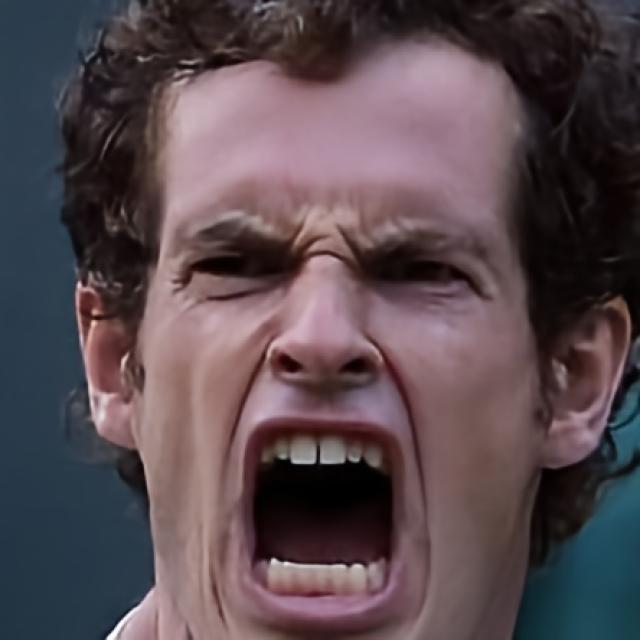anger: (145, 128, 541, 640)
